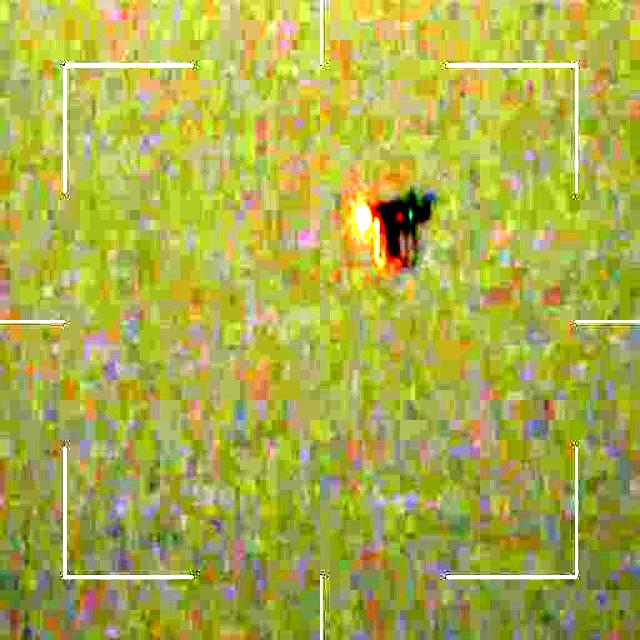bird: (345, 184, 439, 279)
